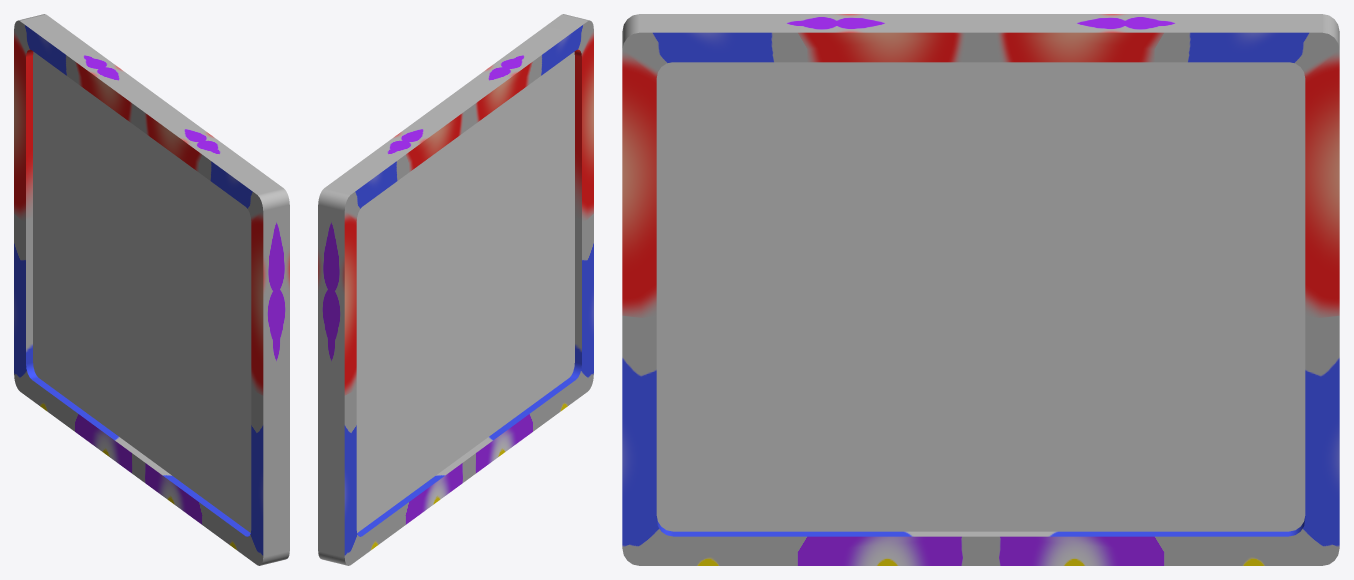
Rendered from SM_Billboard.fbx.
3 renders of one model, left to right at view 1: azimuth 30°, elevation 25°; view 2: azimuth 150°, elevation 25°; view 3: azimuth 270°, elevation 25°, orthographic. The views are drawn at different scales.
Parts seen in each view (by area): view 1: SM_Ads_Sign; view 2: SM_Ads_Sign; view 3: SM_Ads_Sign.
Boxes of the visible parts, x1,y1,x2,y2 form: SM_Ads_Sign: (14,14,289,565); SM_Ads_Sign: (318,14,593,565); SM_Ads_Sign: (622,14,1339,565).
Bounding box in the file's own units: 25.56 × 340 × 414.
